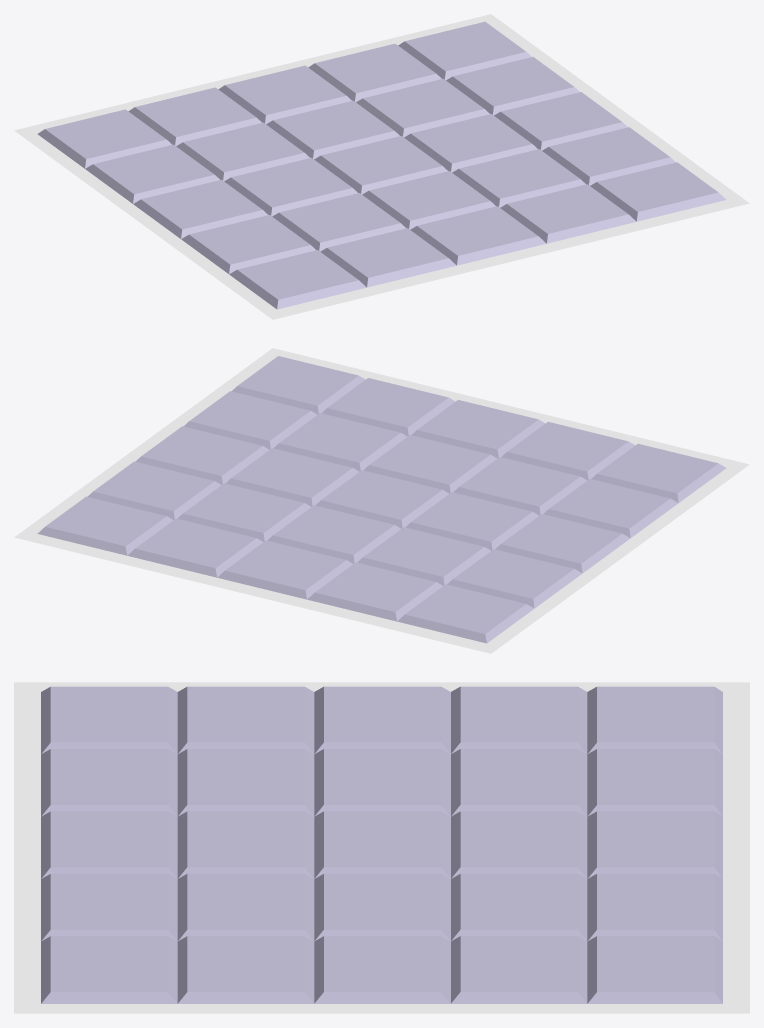
File: CeilingTileLight.fbx
3 renders of one model, top to bottom at view 1: azimuth 30°, elevation 25°; view 2: azimuth 150°, elevation 25°; view 3: azimuth 270°, elevation 25°, orthographic. The views are drawn at different scales.
Visible parts, largest first — view 1: CeilignTilesLight; view 2: CeilignTilesLight; view 3: CeilignTilesLight.
Part boxes in pixels (x1,y1,x2,y2): CeilignTilesLight: (14,14,749,319); CeilignTilesLight: (14,348,749,653); CeilignTilesLight: (14,682,749,1013).
Size of the model in its own units: 280 by 3.44 by 263.
